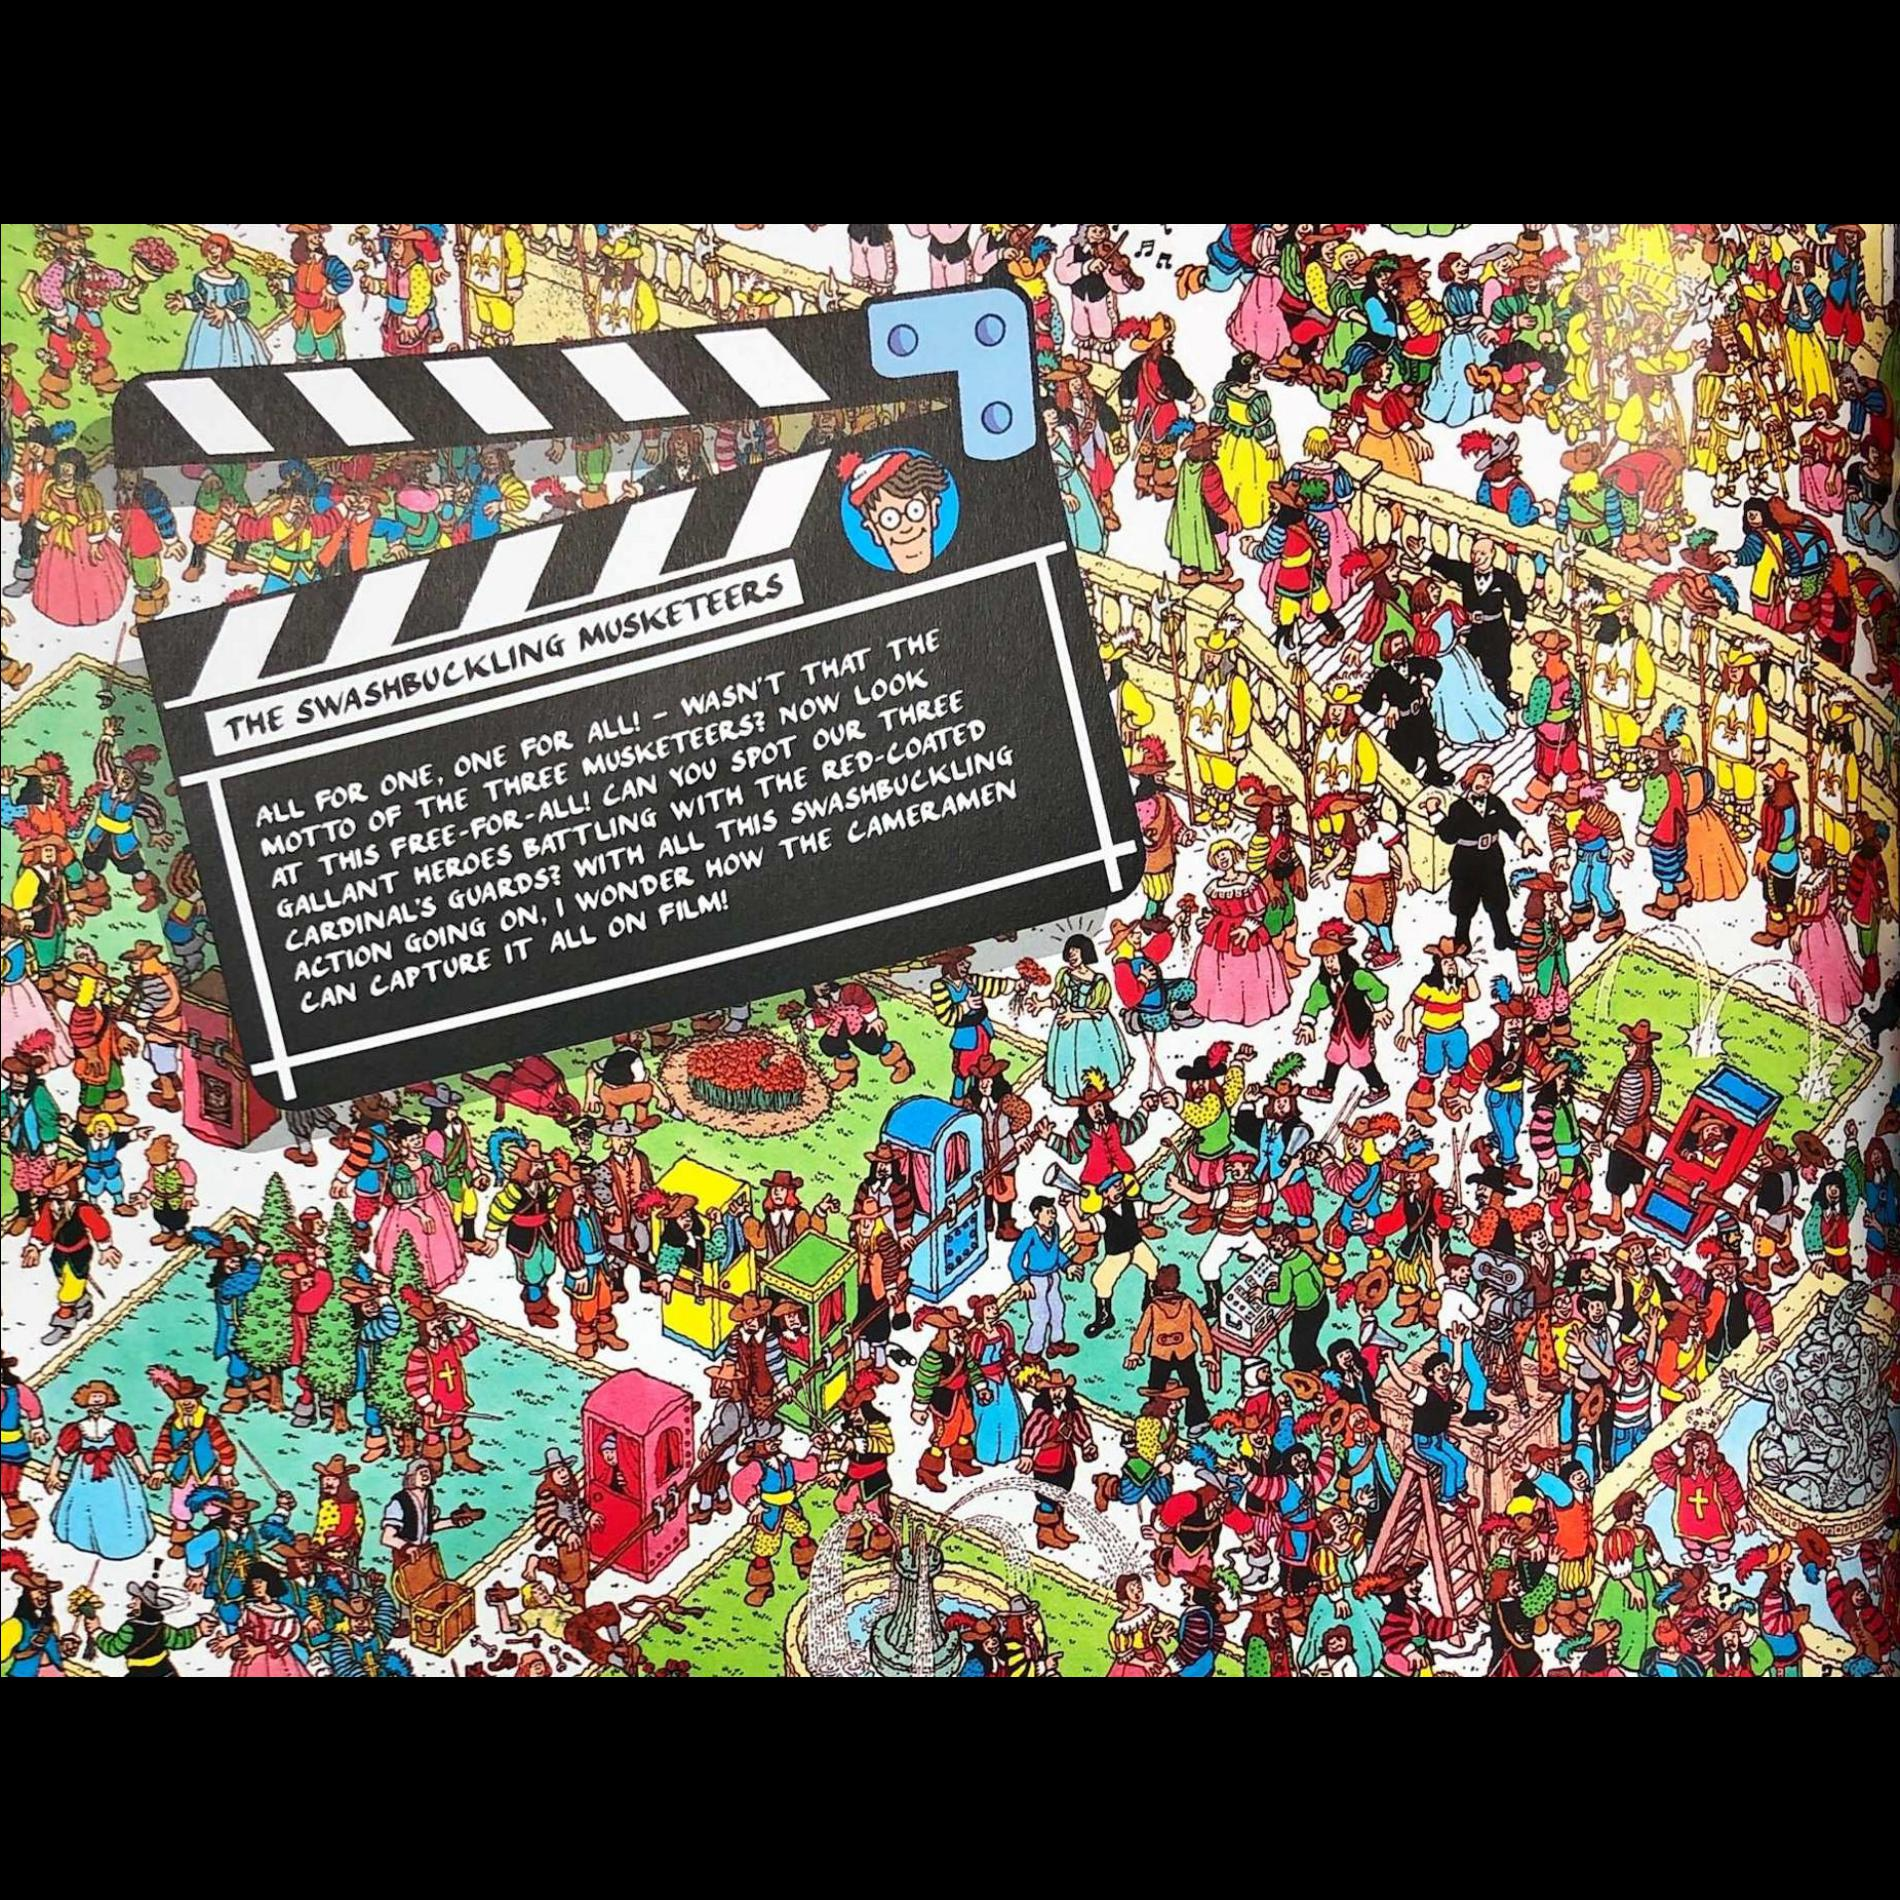Odlaw: (562, 1108, 597, 1169)
Wilma: (1674, 1615, 1716, 1667)
